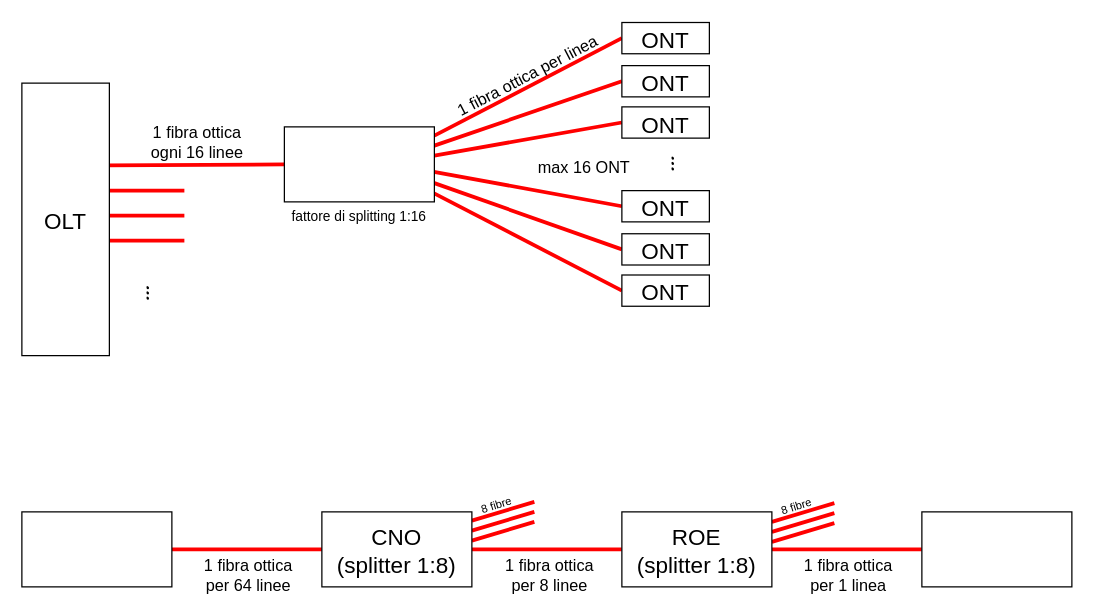
The diagram is 1094 pixels wide and 615 high, and some of its shapes have lost their labels. The centre of each missing label's shape, as x and y in pixels:
"ABITAZIONE (ONT)" goes at point 996,549.
"CENTRALE (sede OLT)" goes at point 96,549.
"SPLITTER OTTICO" goes at point 358,164.
